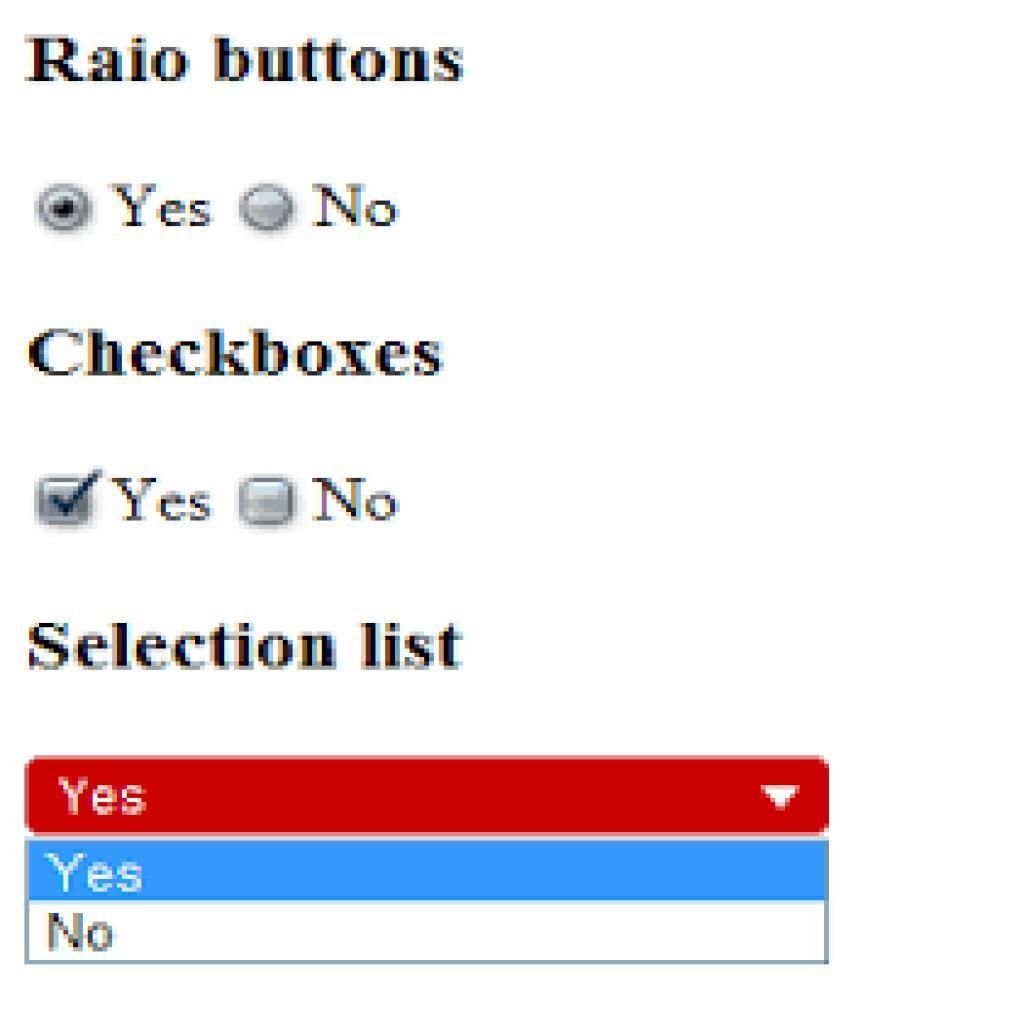checkbox: (37, 471, 108, 527), (241, 477, 297, 529)
dropdown: (29, 752, 828, 841)
radio: (31, 181, 95, 236), (238, 185, 299, 235)
